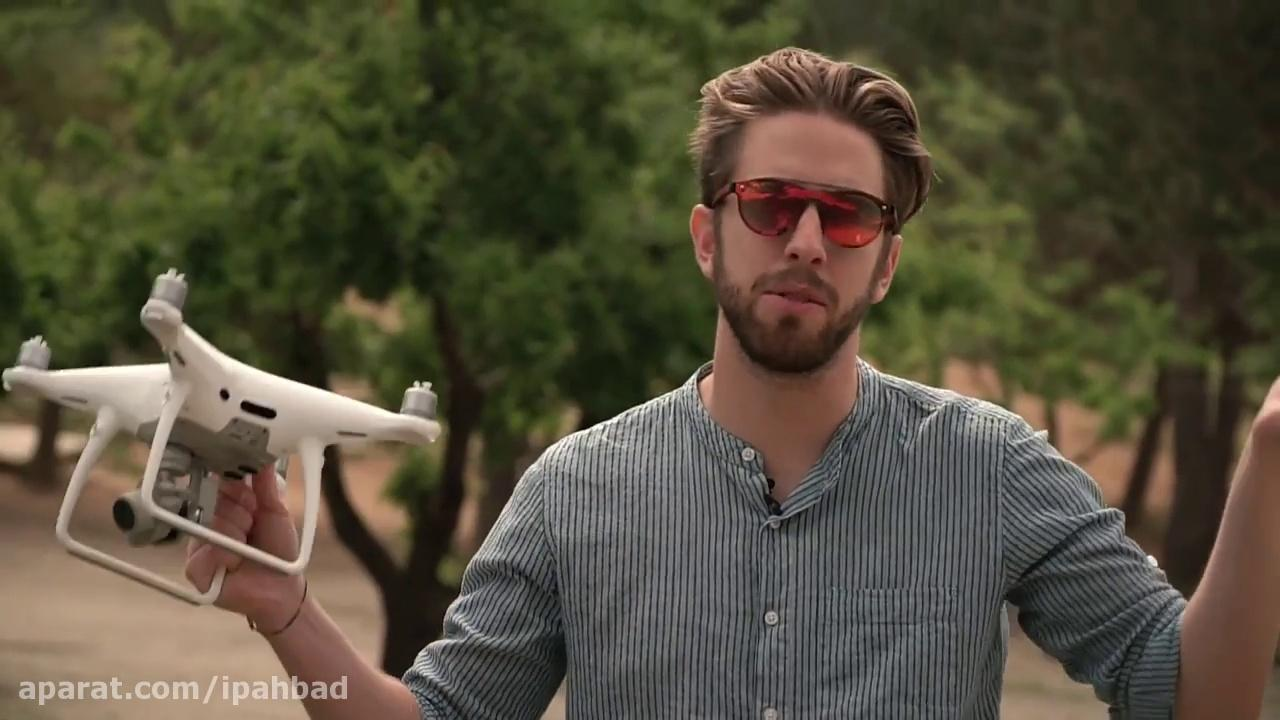drone: (0, 265, 444, 612)
